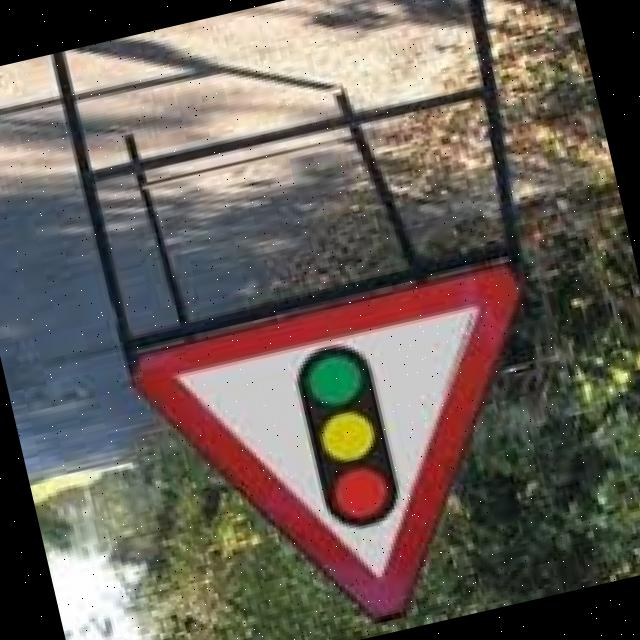light_traffic: (130, 256, 526, 620)
